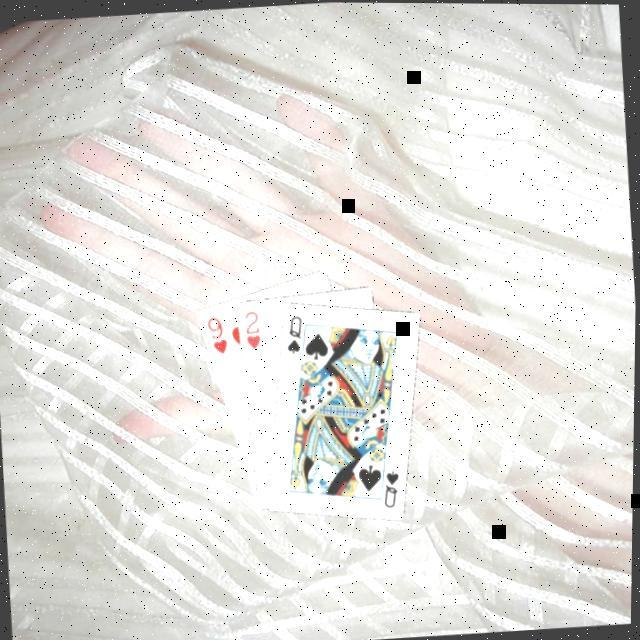2H: (240, 307, 264, 352)
9H: (201, 312, 231, 358)
QS: (379, 466, 405, 511), (281, 312, 307, 356)
